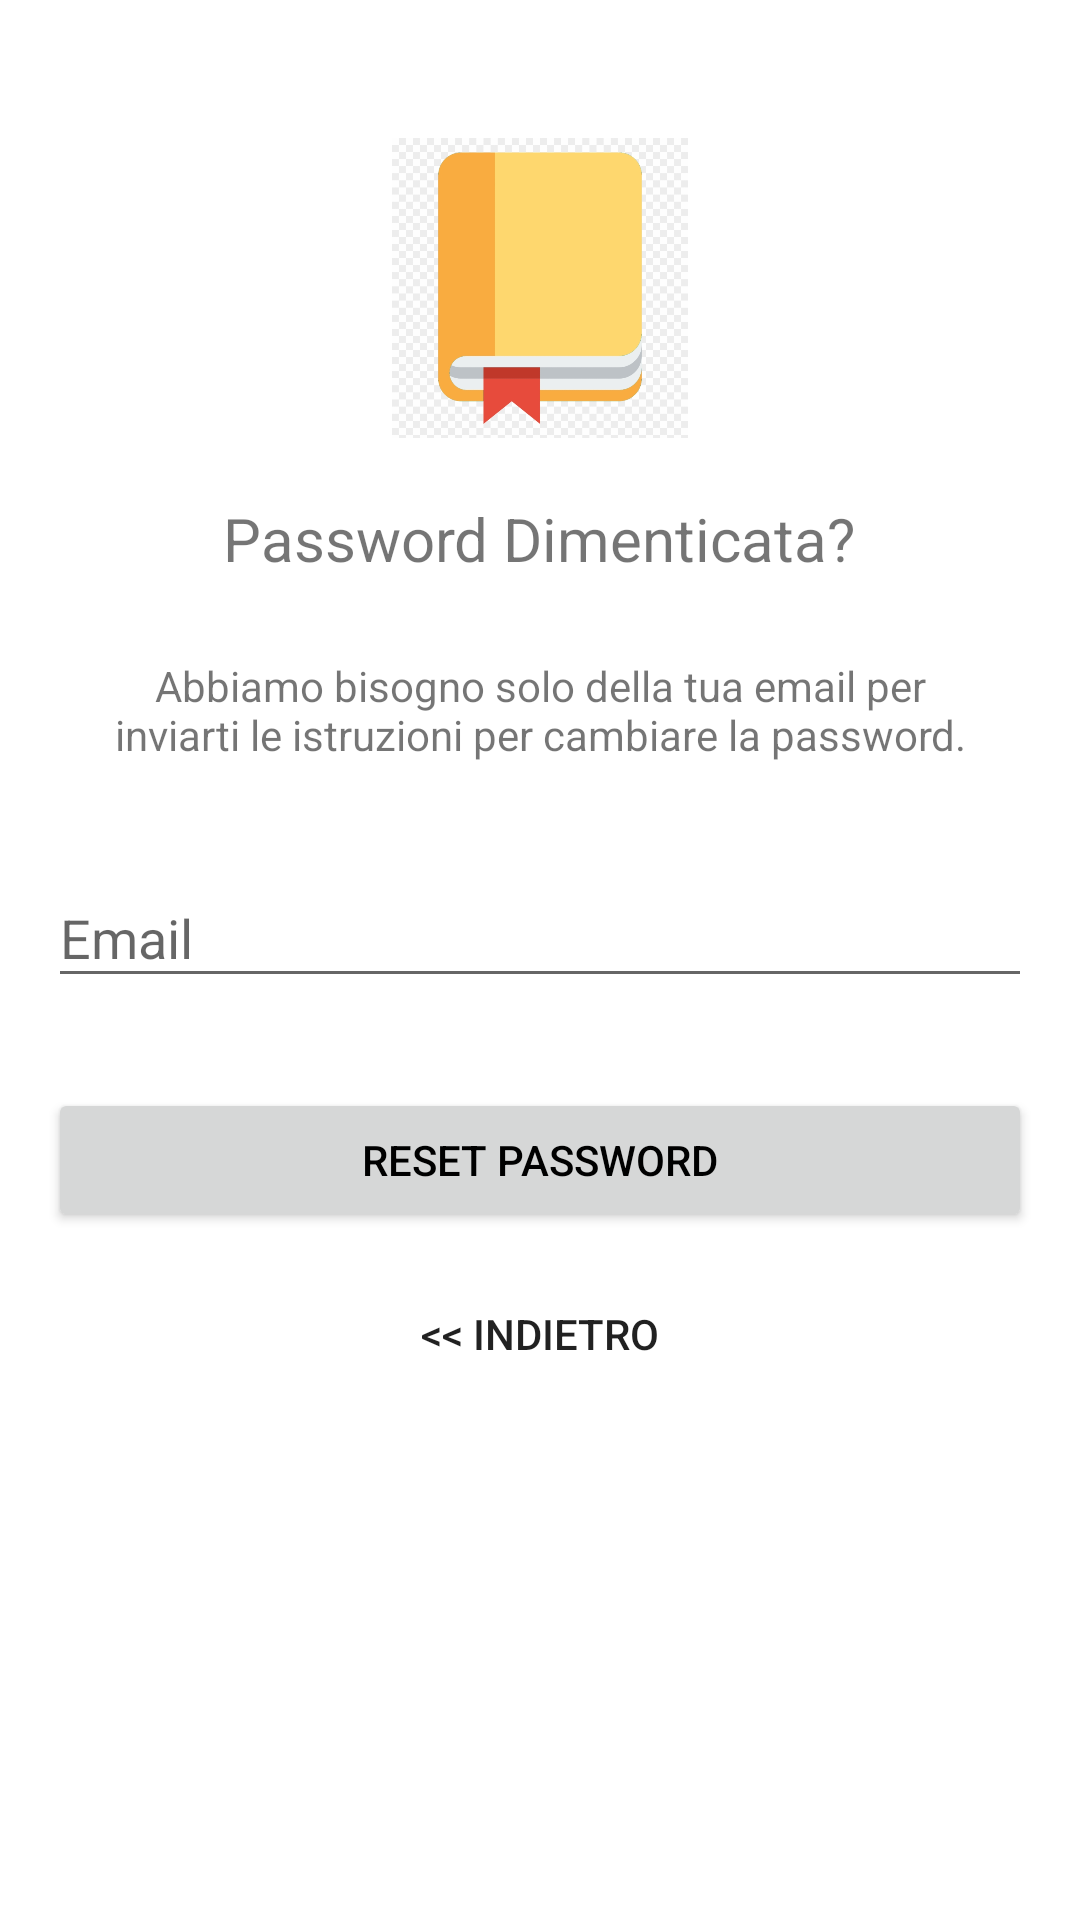

Icons on this 1080x1920 Android screen, each with its box as bbox(x1, y1, x2, y2):
bookremindericon: bbox(438, 152, 642, 424)
